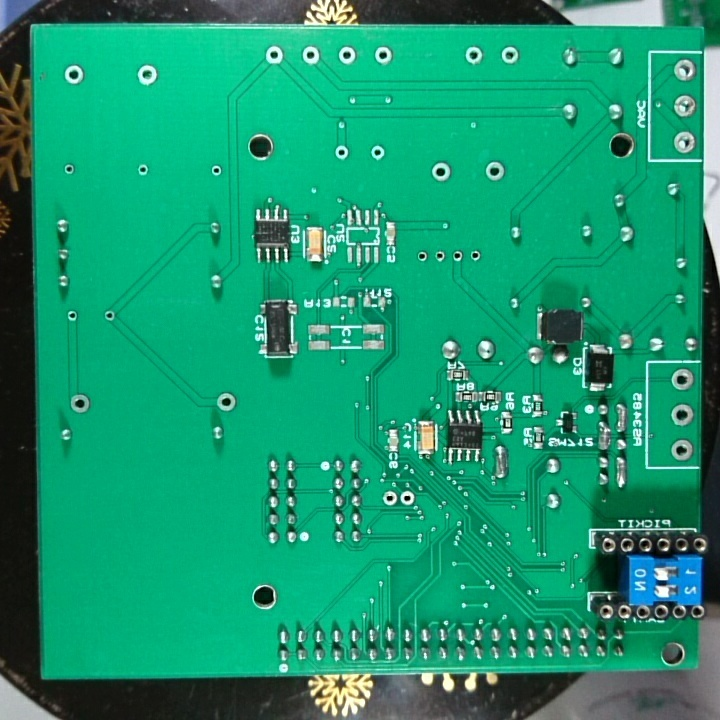F: (670, 91, 698, 120), (668, 437, 696, 463), (671, 127, 697, 155), (670, 366, 696, 393), (671, 57, 697, 84), (214, 388, 241, 414), (370, 42, 397, 67), (60, 63, 88, 87), (134, 62, 160, 87), (429, 160, 456, 184), (670, 403, 695, 428), (498, 43, 523, 68), (298, 43, 323, 68), (68, 391, 93, 416), (482, 159, 508, 183), (334, 43, 359, 67), (262, 42, 285, 68), (462, 43, 485, 66), (368, 142, 388, 164), (379, 488, 399, 508), (332, 142, 351, 163), (398, 487, 417, 508), (448, 246, 467, 266), (63, 307, 82, 326), (134, 161, 152, 181), (99, 306, 117, 326), (207, 162, 226, 180), (467, 245, 484, 265), (431, 246, 448, 266), (61, 160, 77, 179), (414, 247, 430, 266)
P: (491, 442, 510, 483), (594, 418, 613, 454), (614, 452, 631, 490), (613, 401, 630, 435)
